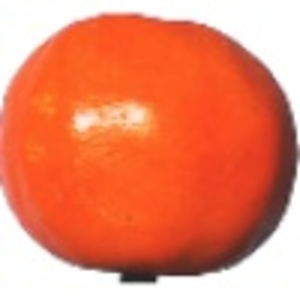tangerina: (1, 12, 300, 282)
